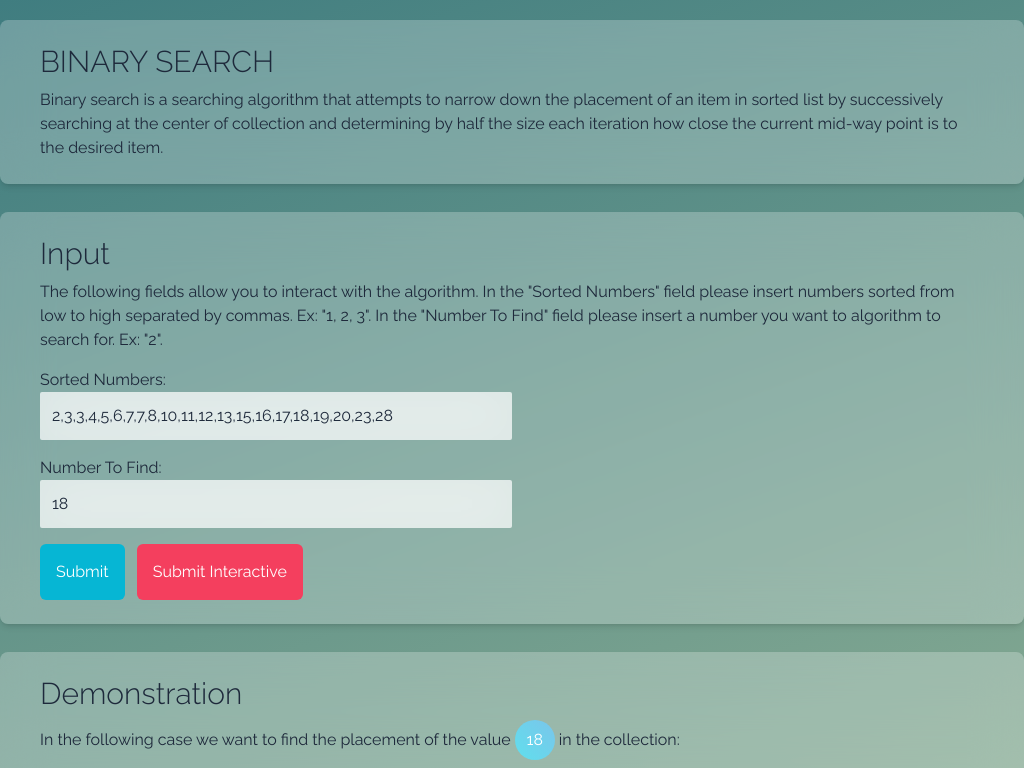
Test: it shows the expected conclusion in interactive mode when data is submitted
The width and height of the screenshot is (1024, 768).
Replace the text in the field labelled "Sorted Numbers:" with "1,2,3" at (276,416), box [40,392,512,440]
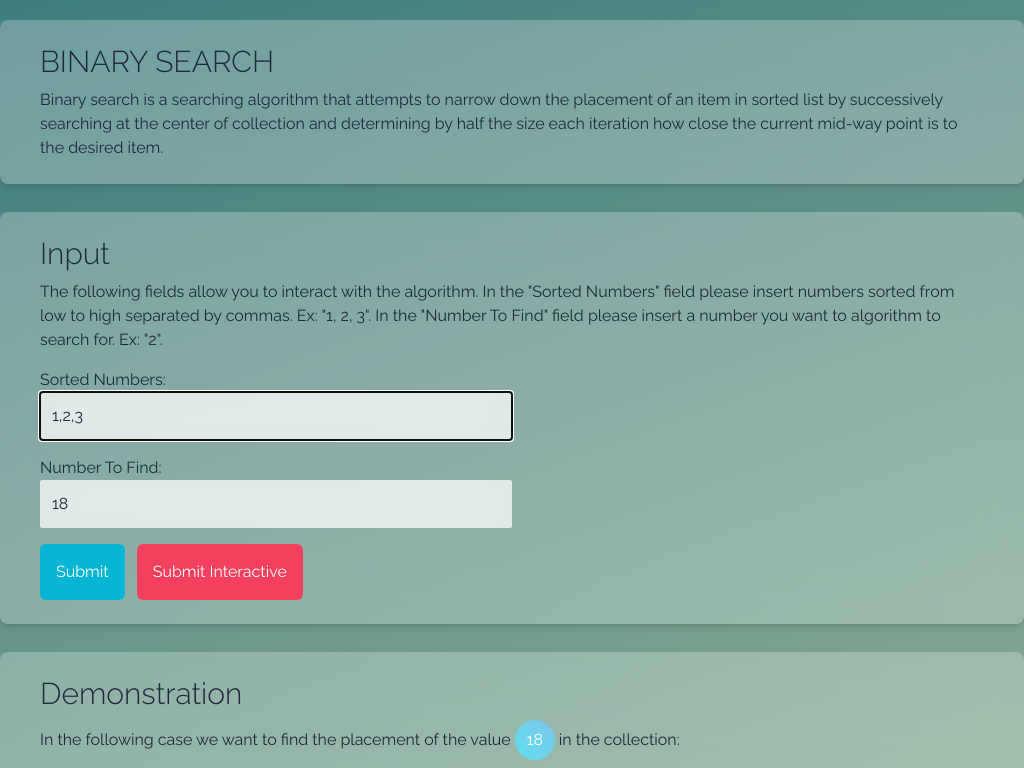
Replace the text in the number field labelled "Number To Find:" with "2" at (276,504), box [40,480,512,528]
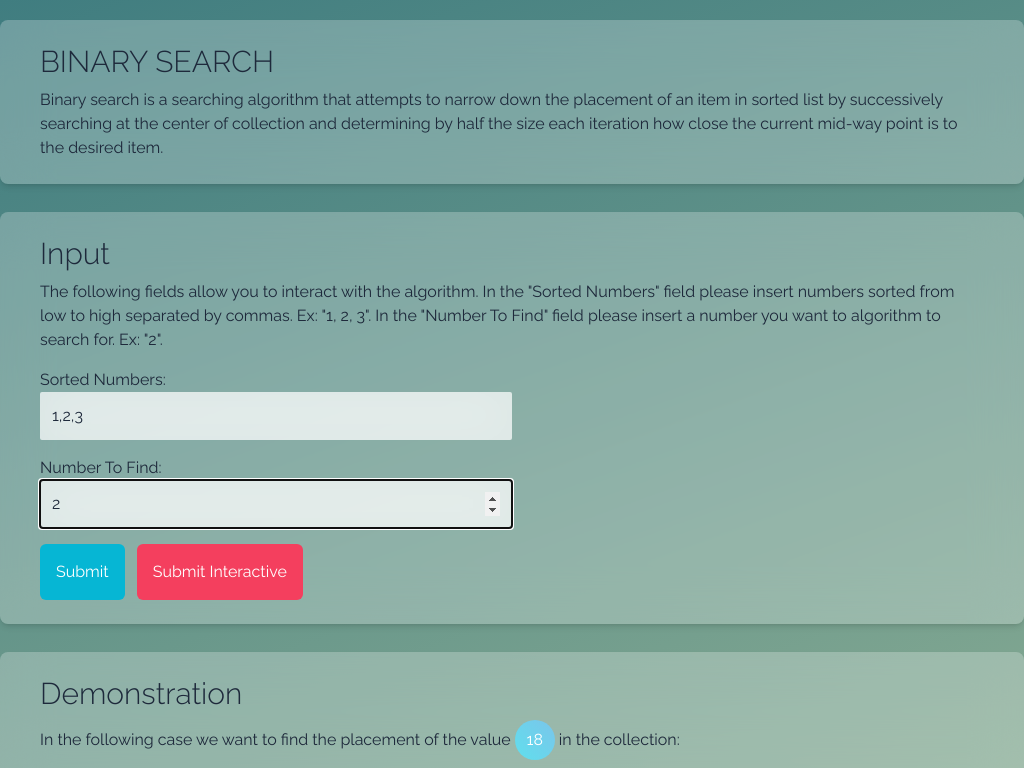
Click the button "Submit Interactive" at (220,572), box [137,544,303,600]
(page scrolled)
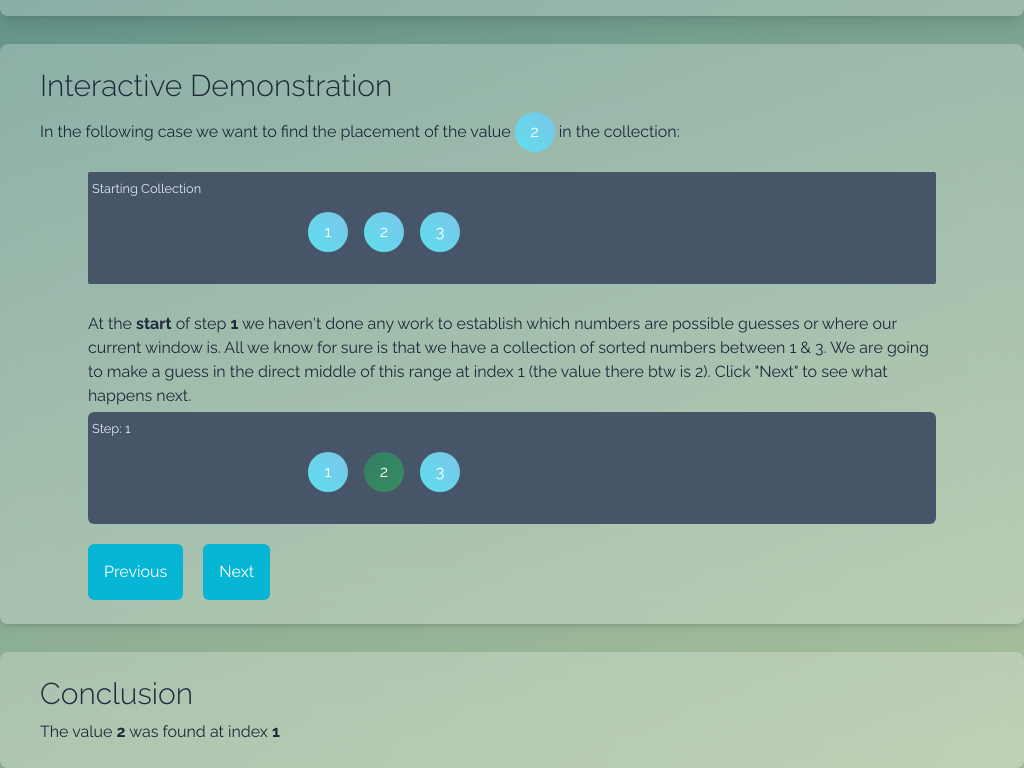
Now the element with test id "value-found-conclusion" reads "The value 2 was found at index 1", box [40,722,280,741]
